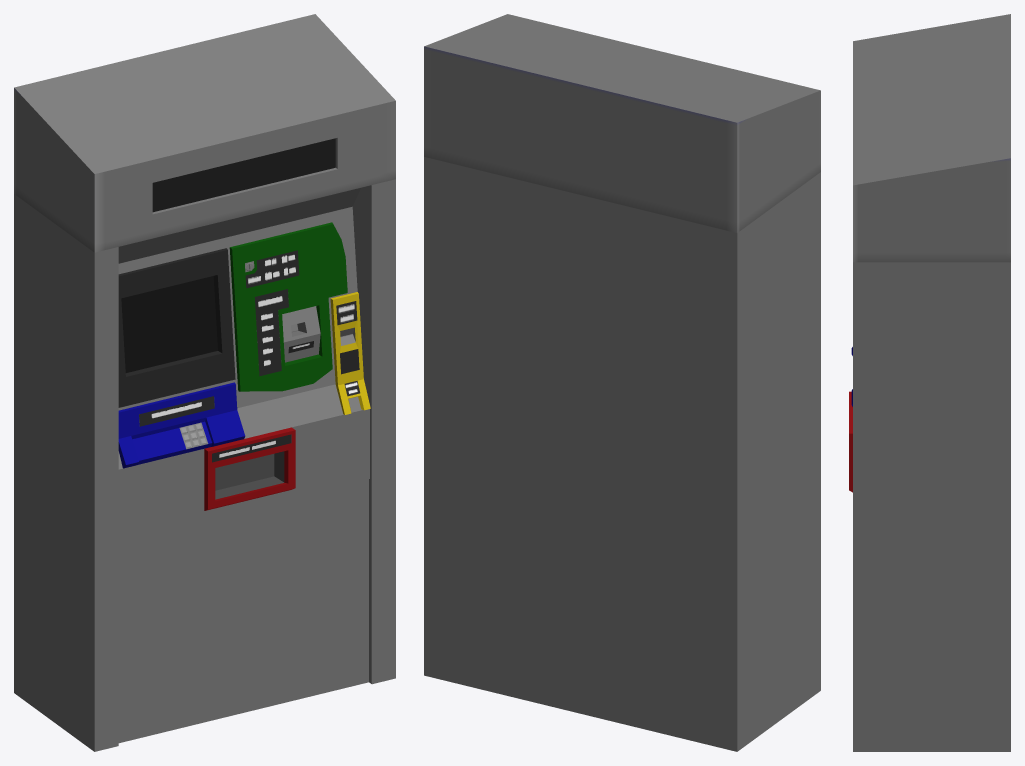
File: SW_PROP_TicketMachine.fbx
The picture shows the model from 3 angles, left to right: view 1: azimuth 30°, elevation 25°; view 2: azimuth 150°, elevation 25°; view 3: azimuth 270°, elevation 25°; orthographic projection. The views are drawn at different scales.
Visible parts, largest first — view 1: SW_PROP_TicketMachine; view 2: SW_PROP_TicketMachine; view 3: SW_PROP_TicketMachine.
Boxes of the visible parts, <box> form: SW_PROP_TicketMachine: <box>14,14,395,751</box>; SW_PROP_TicketMachine: <box>424,14,820,751</box>; SW_PROP_TicketMachine: <box>849,14,1010,751</box>.
Size of the model in its own units: 108 by 208 by 51.33.
